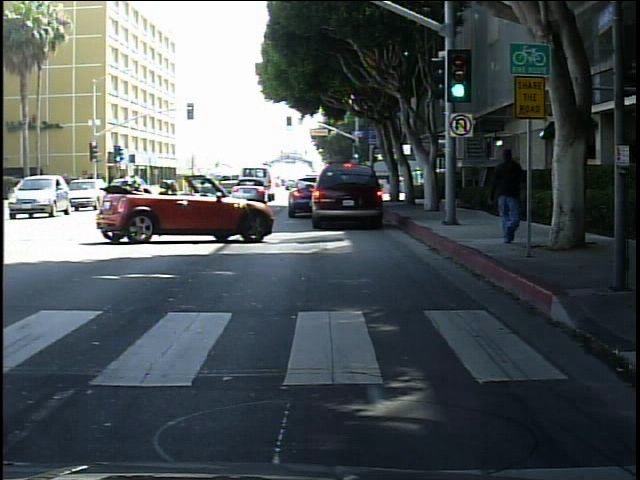person: (490, 137, 531, 245), (501, 148, 526, 229)
